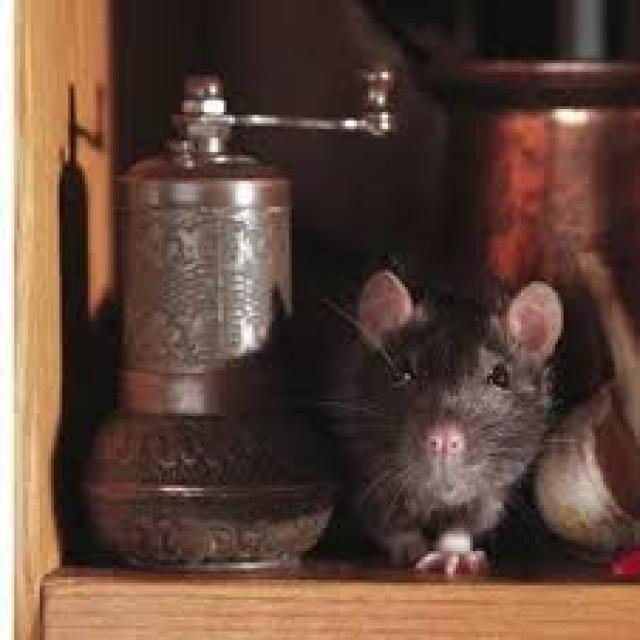Rat: (319, 246, 578, 568)
